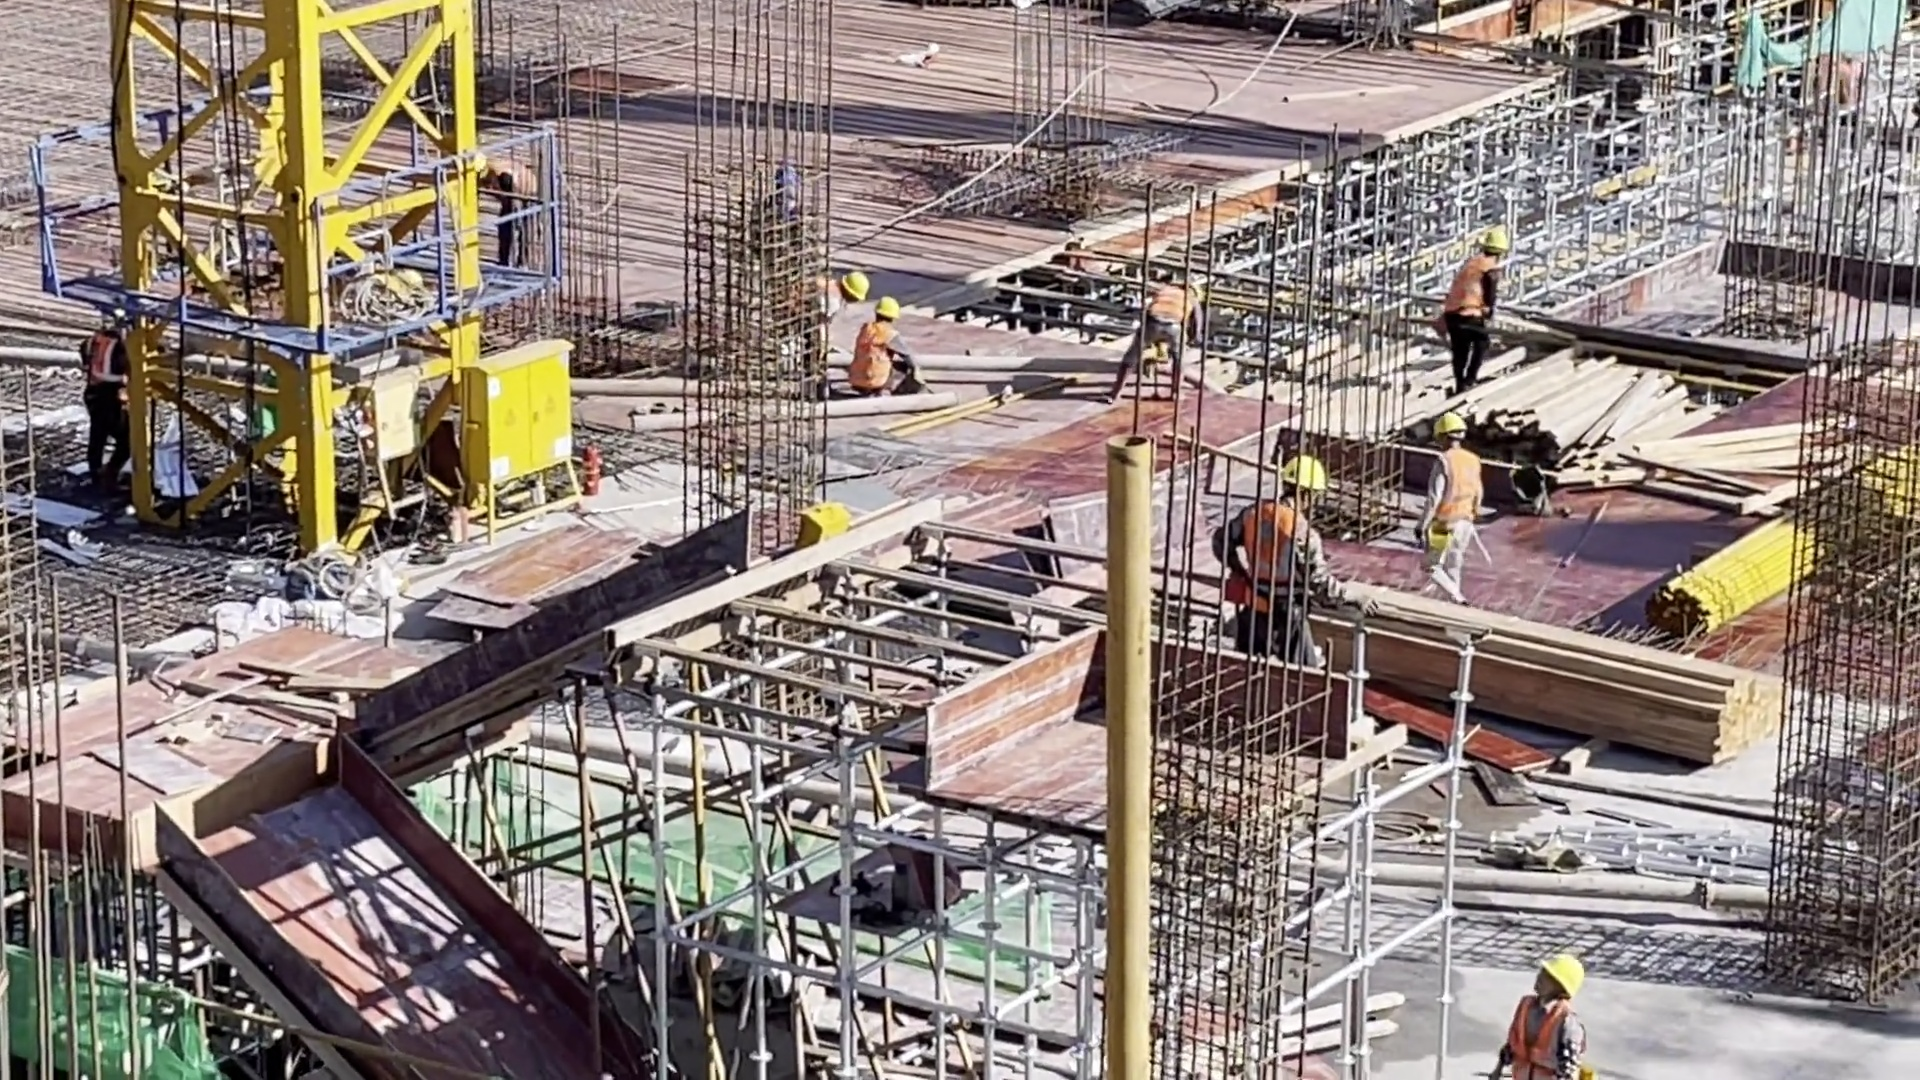ebox: (463, 338, 571, 485)
helmet: (1539, 955, 1583, 999), (1282, 457, 1327, 490), (839, 271, 868, 301), (1433, 413, 1467, 437), (874, 296, 898, 318), (1483, 230, 1509, 249)
person: (1225, 458, 1336, 668), (1112, 274, 1201, 403), (1421, 414, 1482, 601), (71, 303, 131, 495), (1501, 953, 1585, 1080), (1447, 231, 1506, 399), (467, 151, 532, 273), (848, 296, 919, 394), (815, 274, 867, 383)
vest: (1228, 507, 1308, 600), (1513, 993, 1568, 1080), (1428, 451, 1474, 537), (1443, 257, 1496, 325), (847, 329, 896, 392), (1142, 283, 1204, 327), (79, 335, 120, 388)
wood: (1367, 591, 1765, 780), (1458, 373, 1677, 518)
